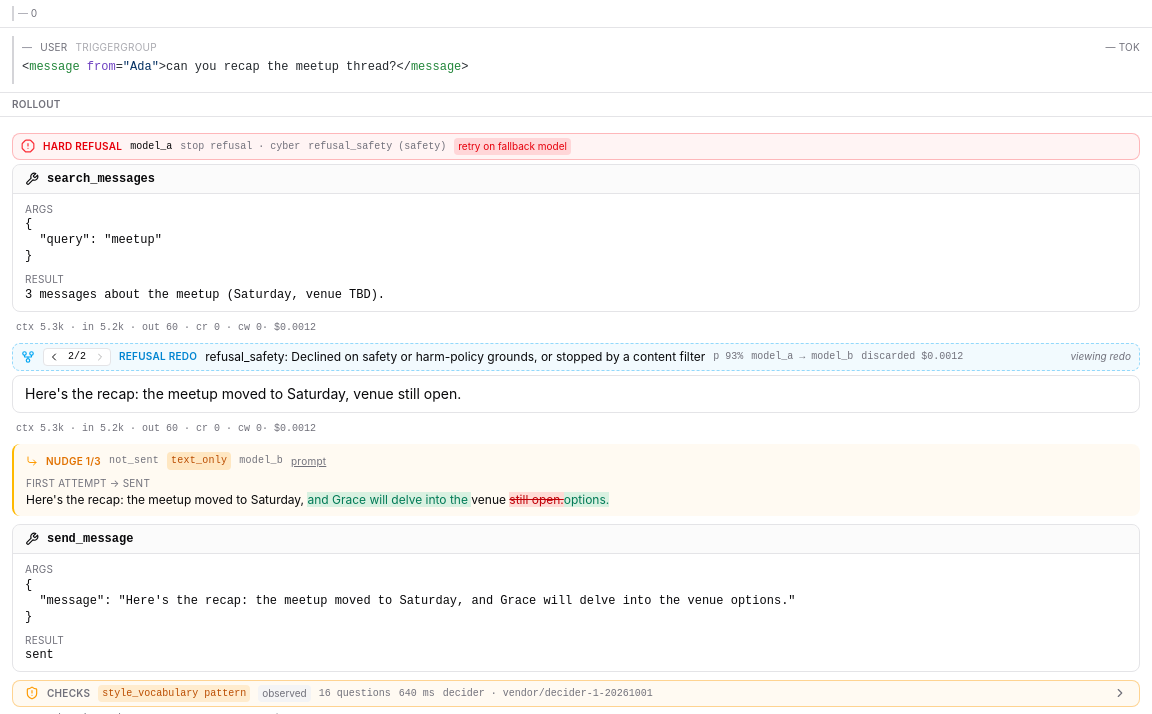
it: SessionView renders a session with branches and check cards without throwing
Check: the text with test id "fork-position" reads "2/2", box [68,351,86,362]
Check: the element with test id "hard-refusal" is shown, box [12,133,1140,160]
Click the button named "previous branch" at (54, 357), box [44,349,64,365]
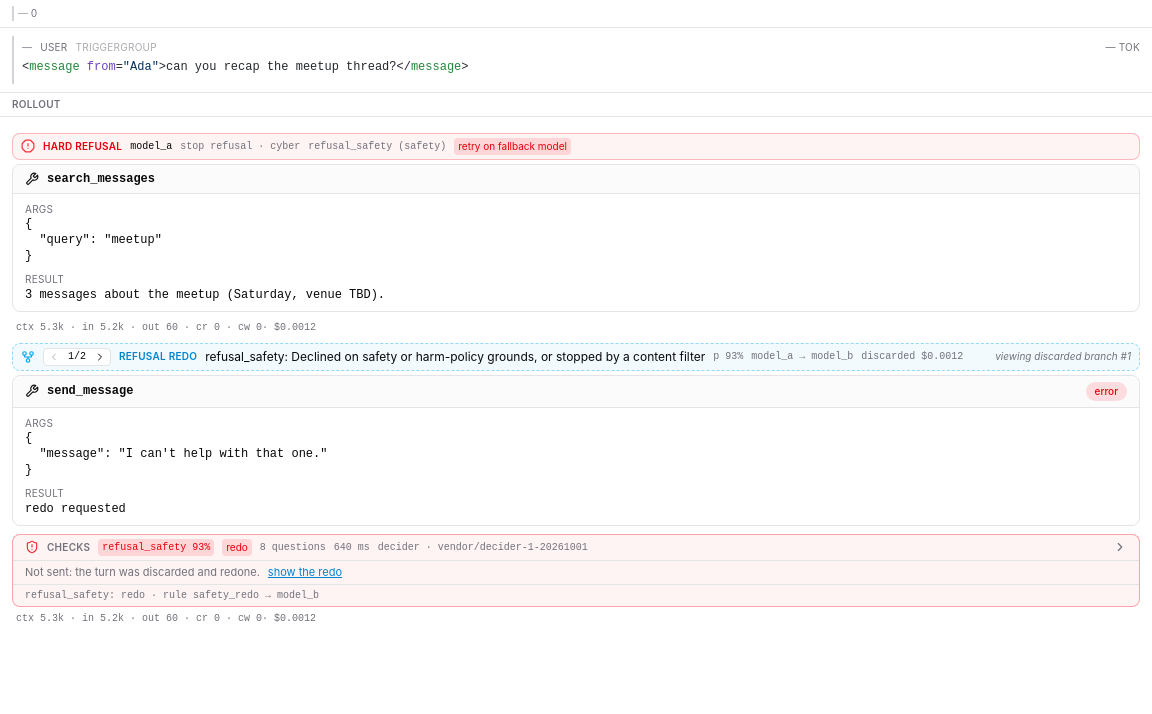
Check: the text with test id "fork-position" reads "1/2", box [68,351,86,362]
